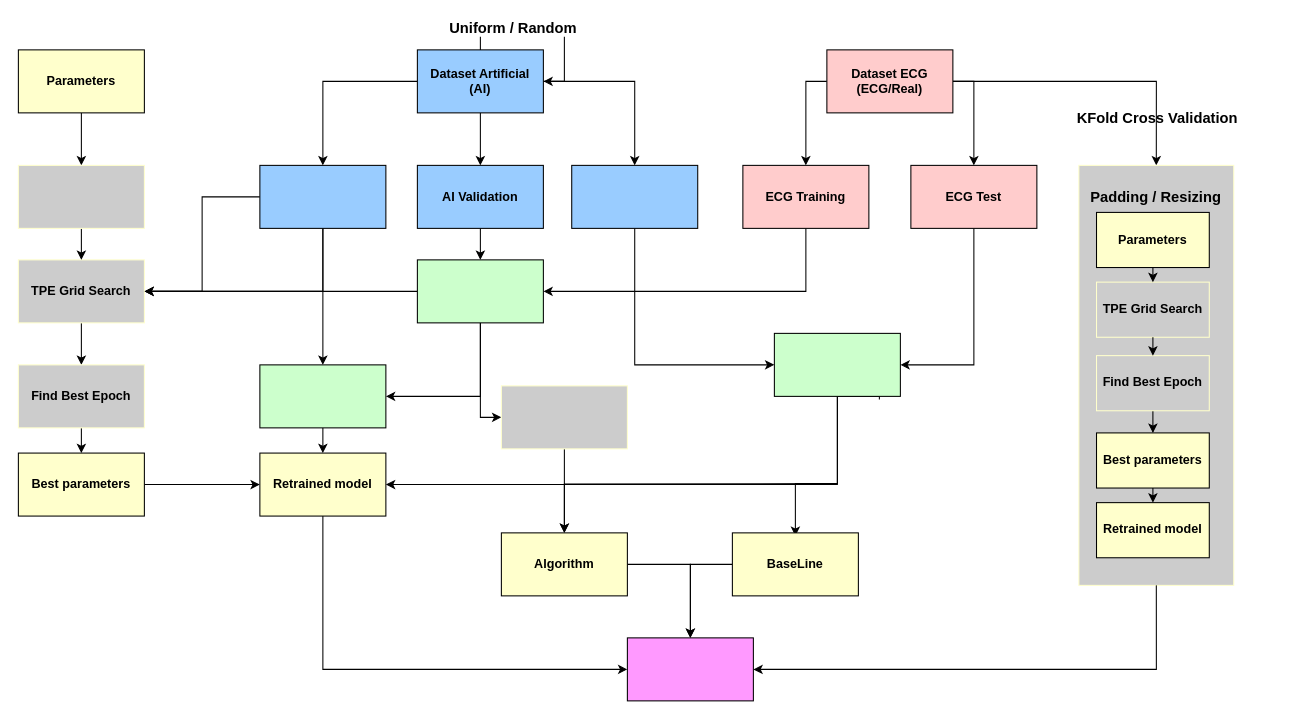
This 1294x719 diagram has some shape labels left out. Here are the shapes that lost their labels. From the top down, the box of each, then its label:
(17, 164, 144, 228): Preliminary (Resizing vs Padding)
(259, 164, 386, 228): AI Training
(571, 164, 698, 228): AI Test
(416, 259, 543, 323): Validation
(773, 332, 900, 396): Test Data
(259, 364, 386, 428): Training Data
(500, 385, 627, 449): Preliminary (Max vs Average)
(626, 637, 753, 701): Final evaluation
